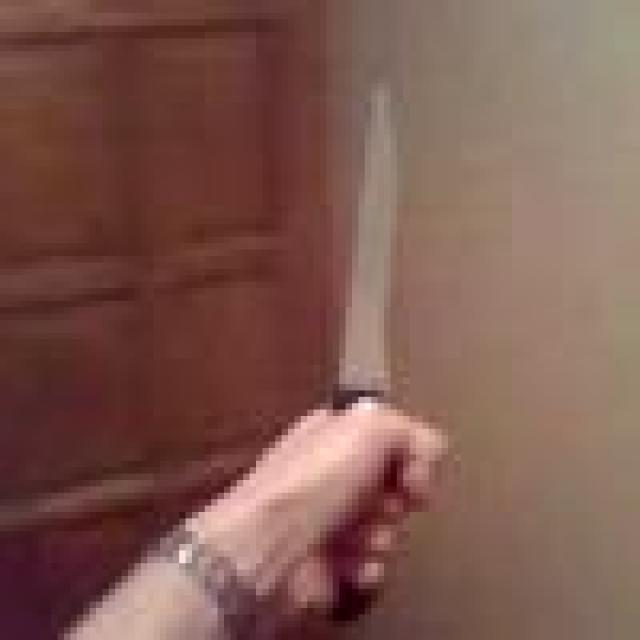knife: (339, 89, 396, 408)
